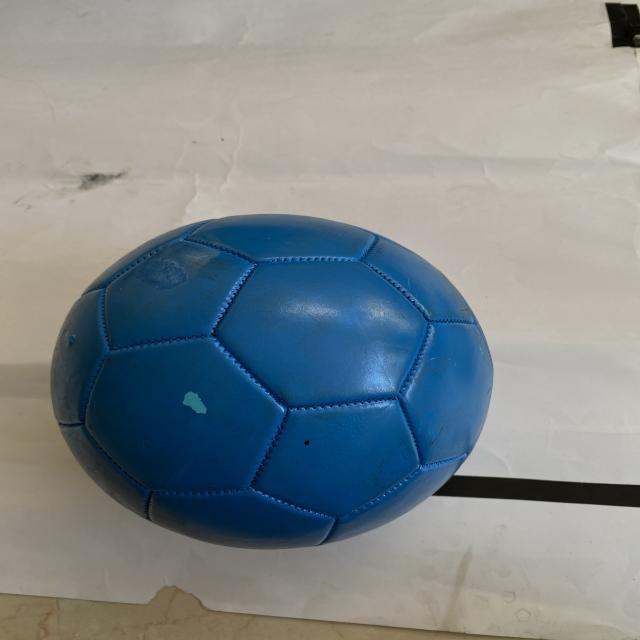blue_ball: (58, 215, 494, 550)
